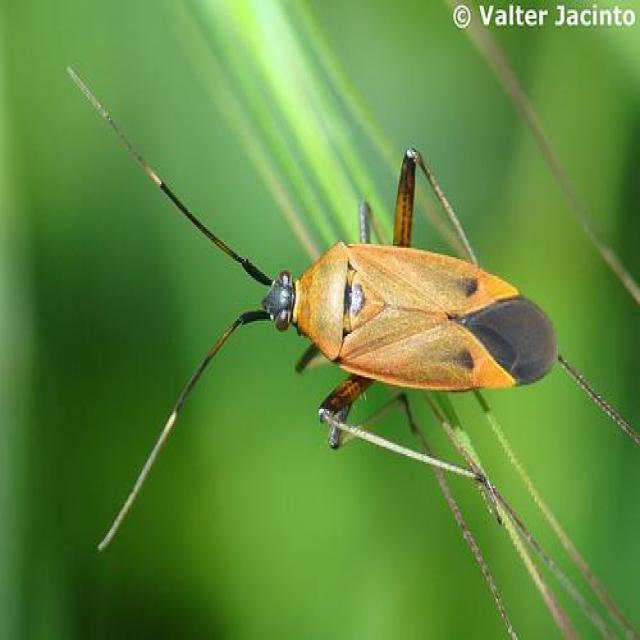Miridae-Adult-: (44, 51, 565, 514)
